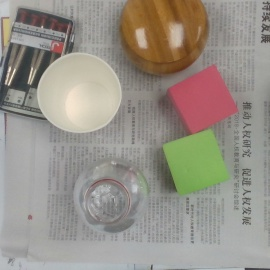bottle: (72, 154, 149, 236)
chess: (119, 1, 209, 72)
cup: (40, 53, 124, 136)
